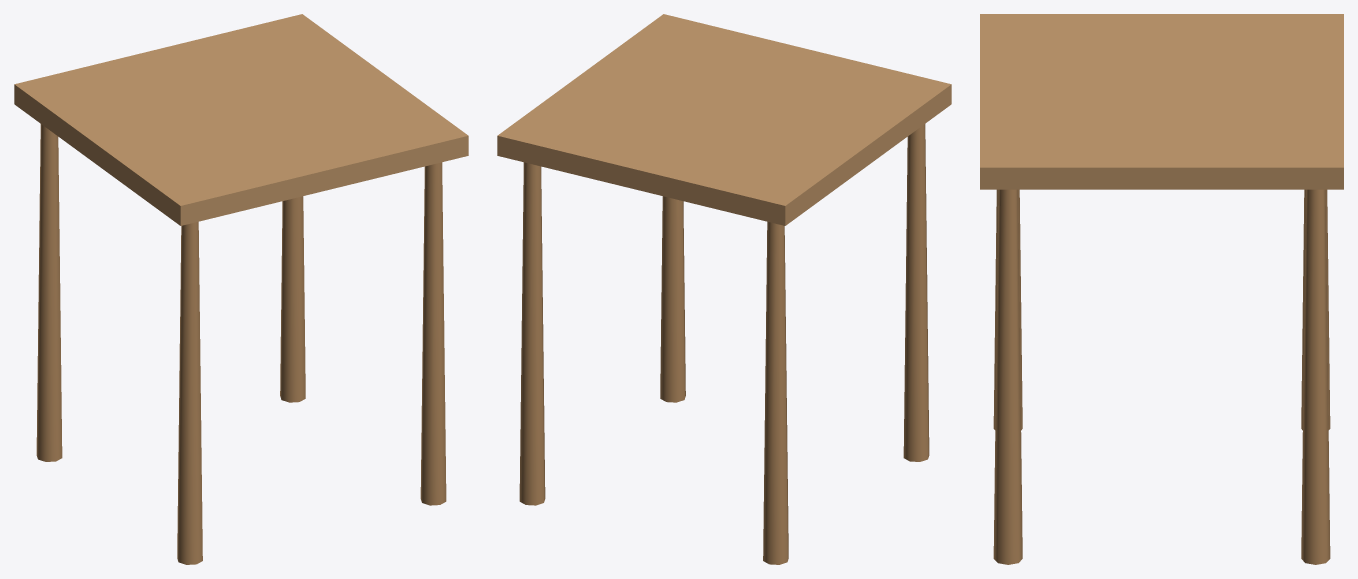
The model's file is sidetable-lite.glb.
3 renders of one model, left to right at view 1: azimuth 30°, elevation 25°; view 2: azimuth 150°, elevation 25°; view 3: azimuth 270°, elevation 25°, orthographic. The views are drawn at different scales.
Parts seen in each view (by area): view 1: material-0-top, material-1-leg; view 2: material-0-top, material-1-leg; view 3: material-0-top, material-1-leg.
Part boxes in pixels (x1,y1,x2,y2): material-0-top: (14,14,468,225); material-1-leg: (36,124,446,564); material-0-top: (497,14,951,225); material-1-leg: (519,124,929,564); material-0-top: (980,14,1343,189); material-1-leg: (993,189,1330,564).
Bounding box in the file's own units: 0.45 × 0.55 × 0.45.
